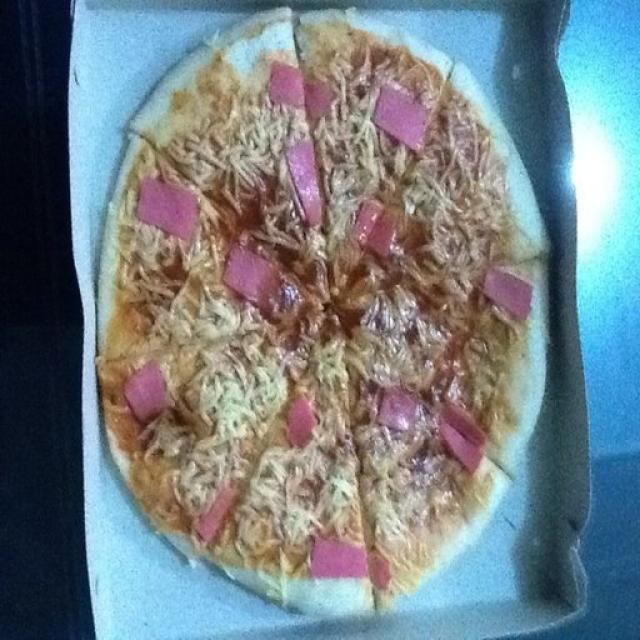Ham: (271, 64, 333, 119), (138, 184, 196, 241), (286, 143, 328, 219), (378, 84, 425, 151), (442, 402, 481, 474), (230, 245, 274, 303), (358, 196, 398, 259), (488, 272, 532, 317), (126, 364, 162, 418), (202, 484, 232, 544), (385, 392, 415, 432), (285, 400, 309, 441)
Pizza: (96, 11, 546, 615)
